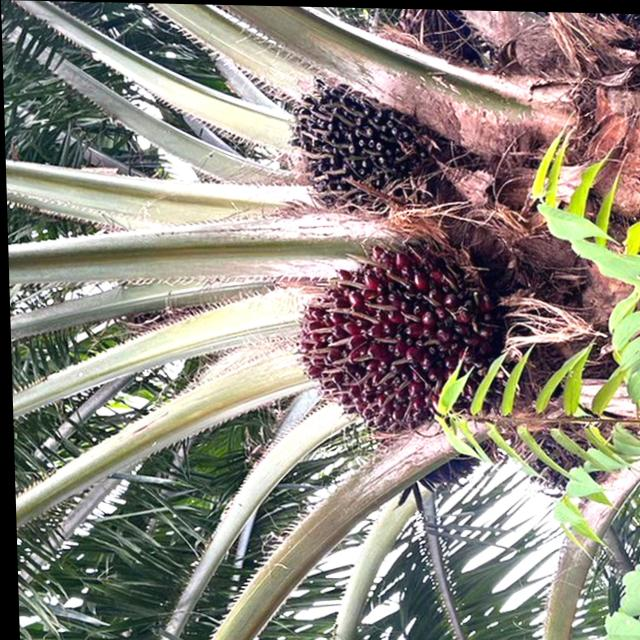ripe: (267, 209, 517, 457)
